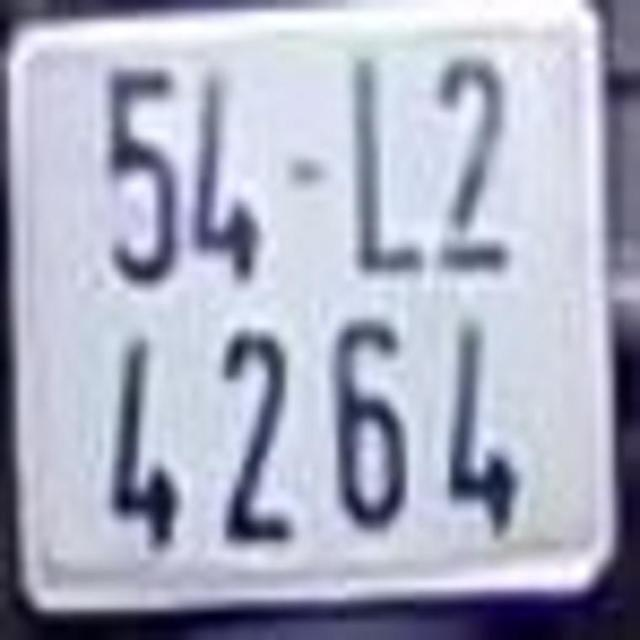2: (434, 51, 515, 274), (218, 326, 297, 545)
4: (106, 330, 186, 553), (443, 316, 521, 539), (190, 67, 264, 287)
5: (103, 65, 181, 286)
6: (334, 313, 409, 532)
L: (345, 49, 426, 278)
